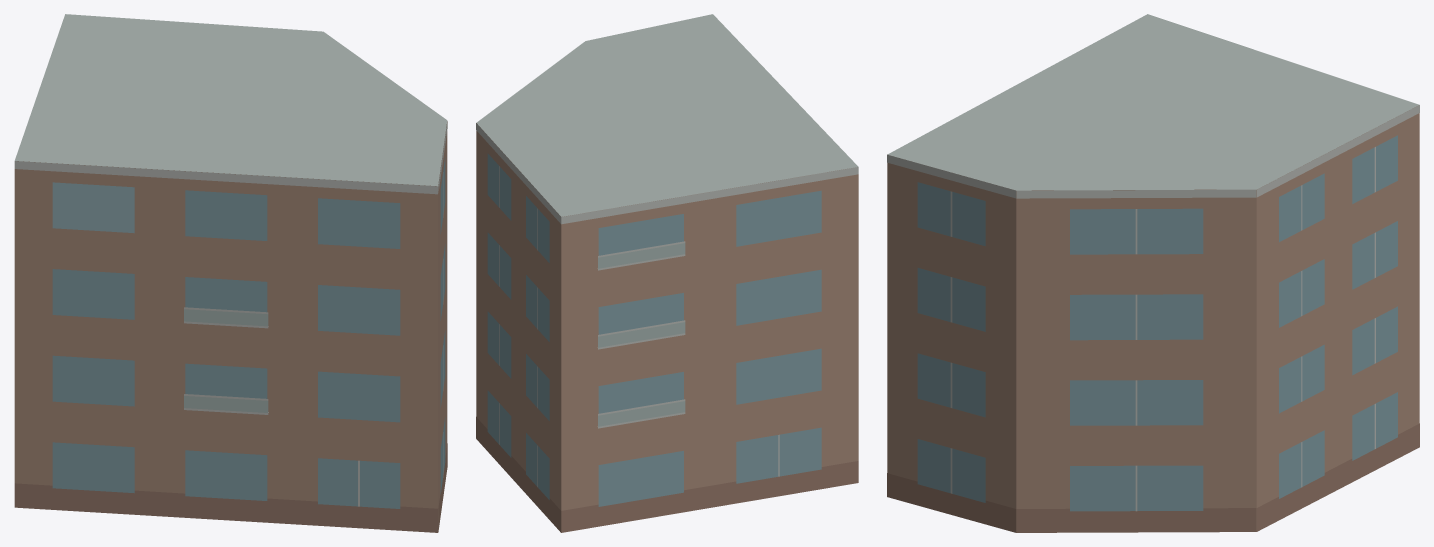
Rendered from survey-upis-33003329.glb.
The picture shows the model from 3 angles, left to right: view 1: azimuth 30°, elevation 25°; view 2: azimuth 150°, elevation 25°; view 3: azimuth 270°, elevation 25°; orthographic projection. The views are drawn at different scales.
Visible parts, largest first — view 1: survey-upis-33003329.tmp; view 2: survey-upis-33003329.tmp; view 3: survey-upis-33003329.tmp.
Boxes of the visible parts, x1,y1,x2,y2 form: survey-upis-33003329.tmp: (14,14,447,532); survey-upis-33003329.tmp: (476,14,858,532); survey-upis-33003329.tmp: (887,14,1419,532).
Bounding box in the file's own units: 11.51 × 10.4 × 14.67.
